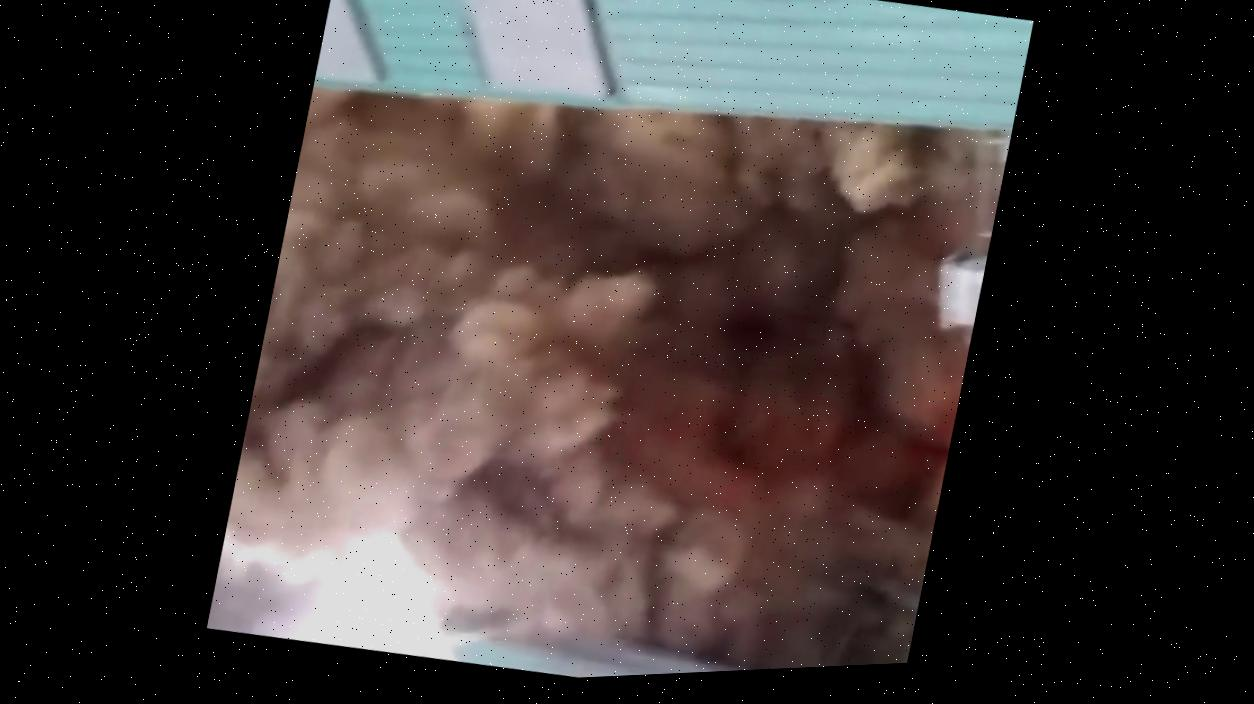smoke: (125, 70, 1129, 634)
